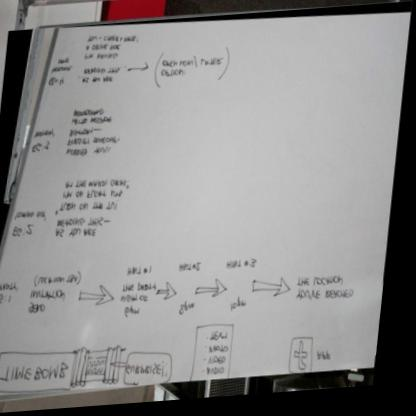Handwritten text: (2, 359, 82, 389), (63, 173, 136, 194), (301, 290, 364, 314), (63, 136, 126, 152), (301, 275, 354, 294), (64, 190, 131, 204), (57, 215, 111, 232), (62, 201, 123, 216), (58, 228, 106, 245), (64, 148, 117, 163), (33, 287, 79, 304), (132, 361, 174, 379), (43, 274, 86, 288), (80, 65, 125, 78), (71, 106, 112, 120), (103, 32, 138, 48), (159, 58, 196, 73), (127, 283, 166, 297), (80, 75, 117, 89), (67, 118, 114, 129), (65, 128, 100, 142), (125, 295, 158, 309), (200, 57, 225, 74), (89, 45, 124, 57), (213, 333, 243, 346), (31, 303, 56, 318), (323, 351, 342, 370), (159, 72, 190, 83), (210, 368, 235, 381), (95, 54, 122, 66), (3, 282, 27, 294), (212, 359, 235, 370), (215, 347, 236, 358), (0, 293, 13, 309)
Whiteboard: (0, 16, 413, 399)
